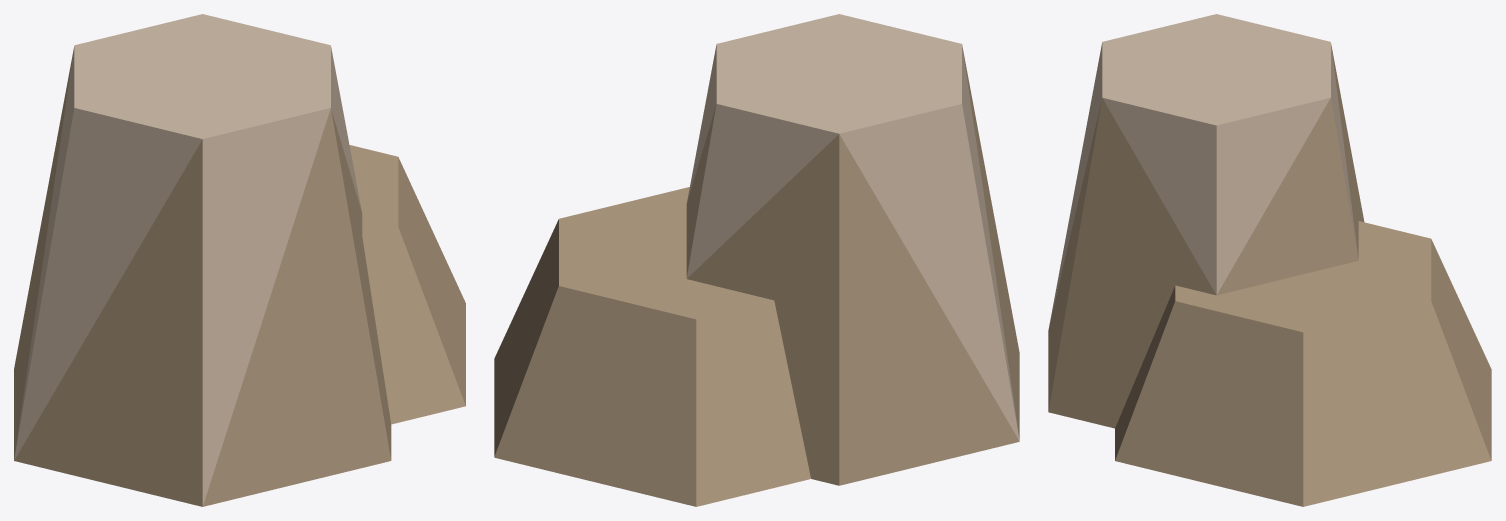
3 views of the same model, side by side, from view 1: azimuth 30°, elevation 25°; view 2: azimuth 150°, elevation 25°; view 3: azimuth 270°, elevation 25° (orthographic). The views are drawn at different scales.
Parts seen in each view (by area): view 1: model; view 2: model; view 3: model.
Part boxes in pixels (<box>): model: <box>14,14,465,506</box>; model: <box>494,14,1019,506</box>; model: <box>1048,14,1491,506</box>.
Bounding box in the file's own units: 0.4134 × 0.267 × 0.3555.
